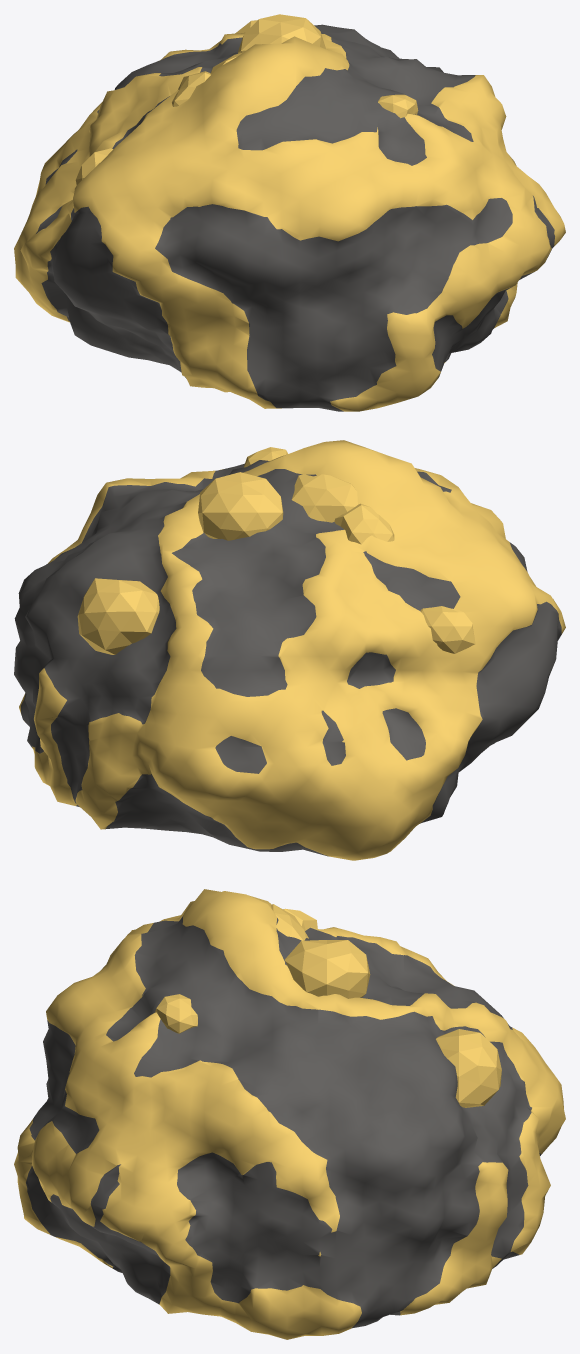
Rendered from gold_deep.glb.
The picture shows the model from 3 angles, top to bottom: view 1: azimuth 30°, elevation 25°; view 2: azimuth 150°, elevation 25°; view 3: azimuth 270°, elevation 25°; orthographic projection. The views are drawn at different scales.
Parts seen in each view (by area): view 1: gold_deep; view 2: gold_deep; view 3: gold_deep.
Part boxes in pixels (<box>): gold_deep: <box>14,14,565,411</box>; gold_deep: <box>14,440,565,860</box>; gold_deep: <box>14,889,565,1339</box>.
Size of the model in its own units: 1.81 by 1.1 by 1.78.
